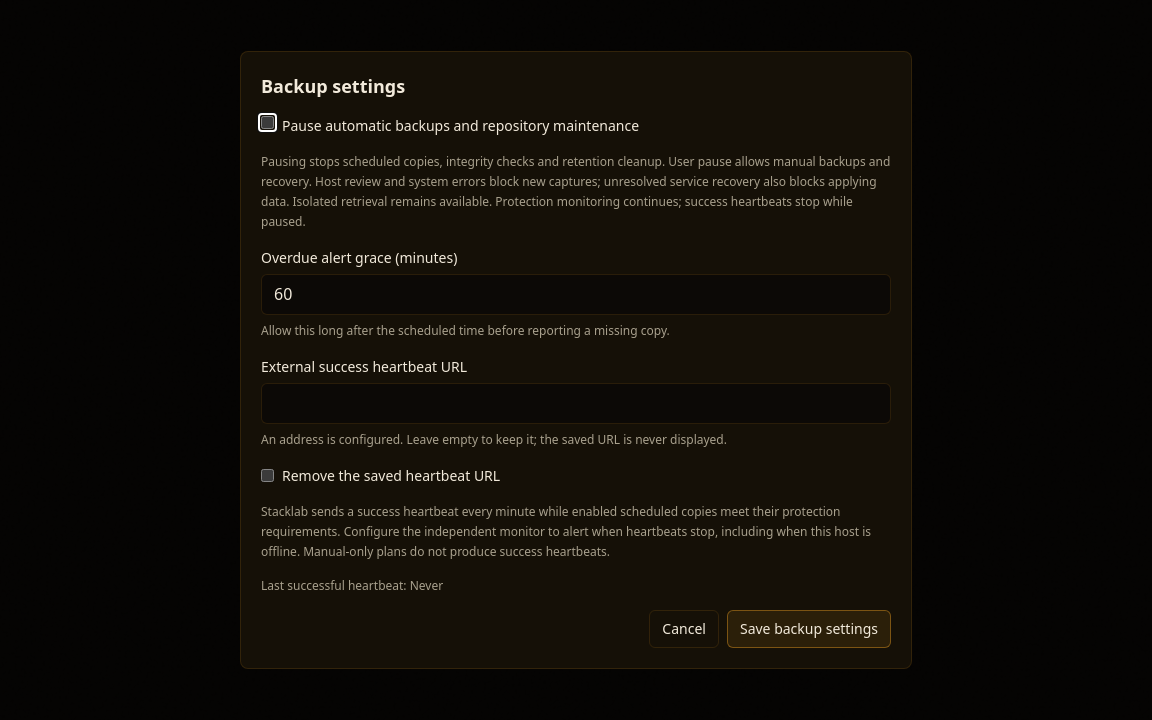
Backup operational controls › keeps settings open after a failed save so secrets and choices can be corrected
In the password field labelled "External success heartbeat URL": (576, 403) [261, 383, 891, 424], type "bad address"
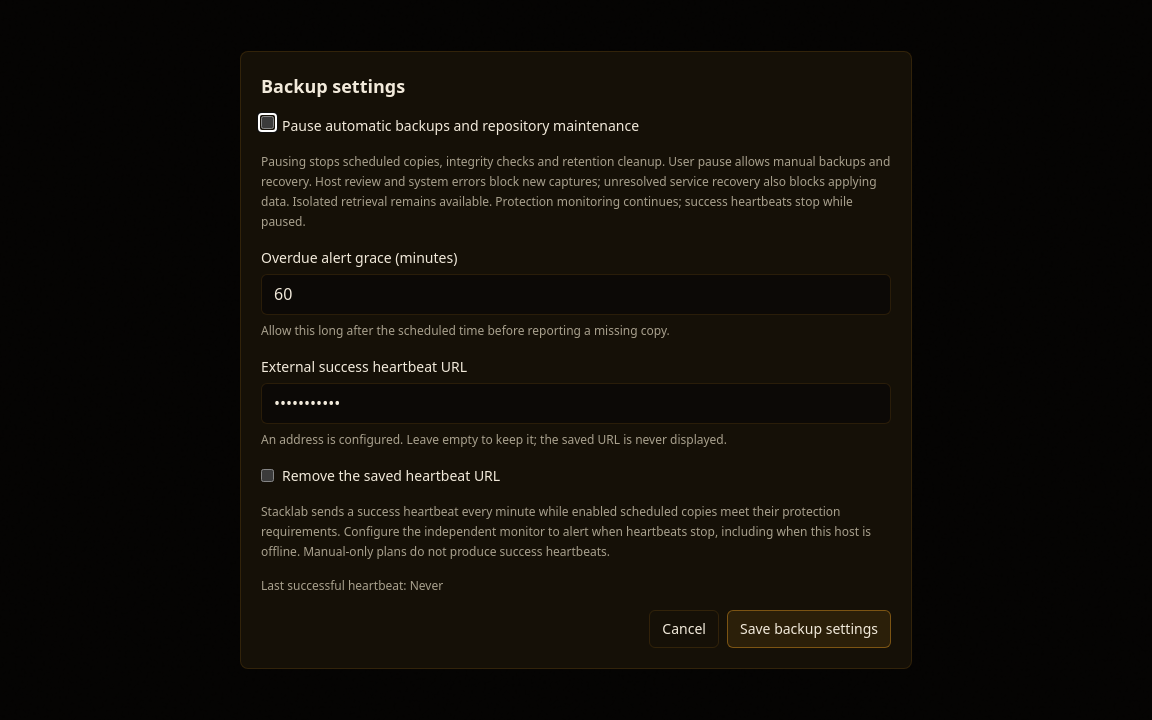
Click the button "Save backup settings": (809, 629) [727, 610, 891, 648]
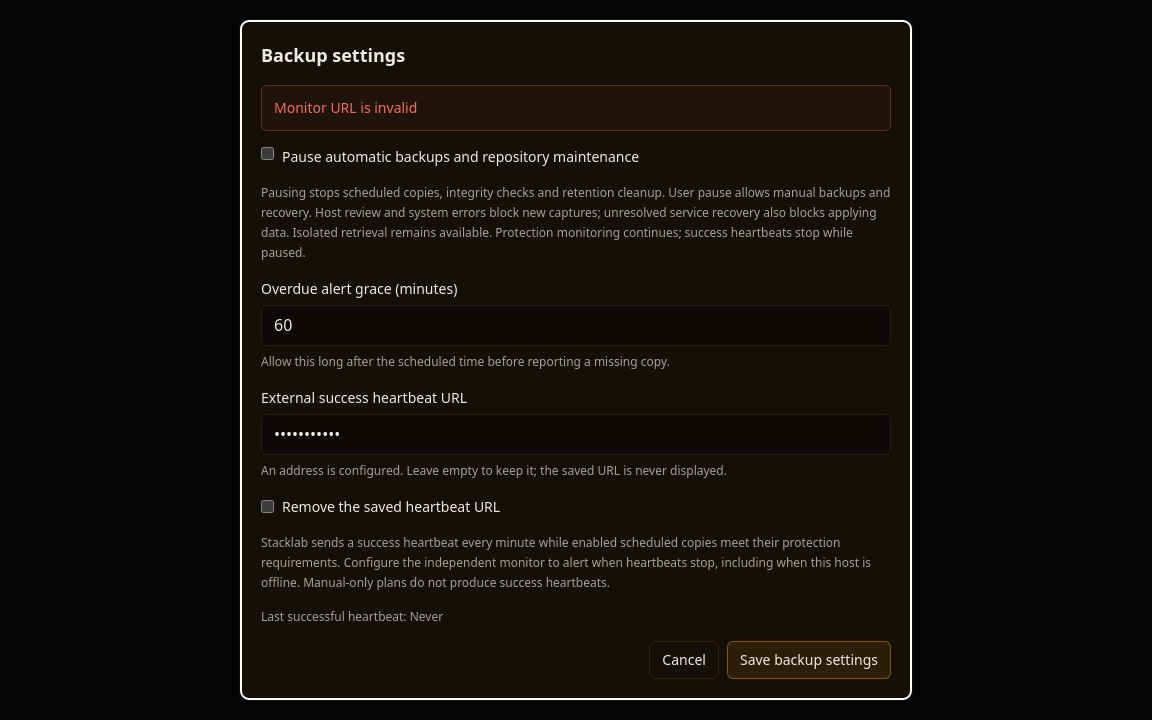
Expected: the message reads "Monitor URL is invalid", [274, 98, 417, 117]
